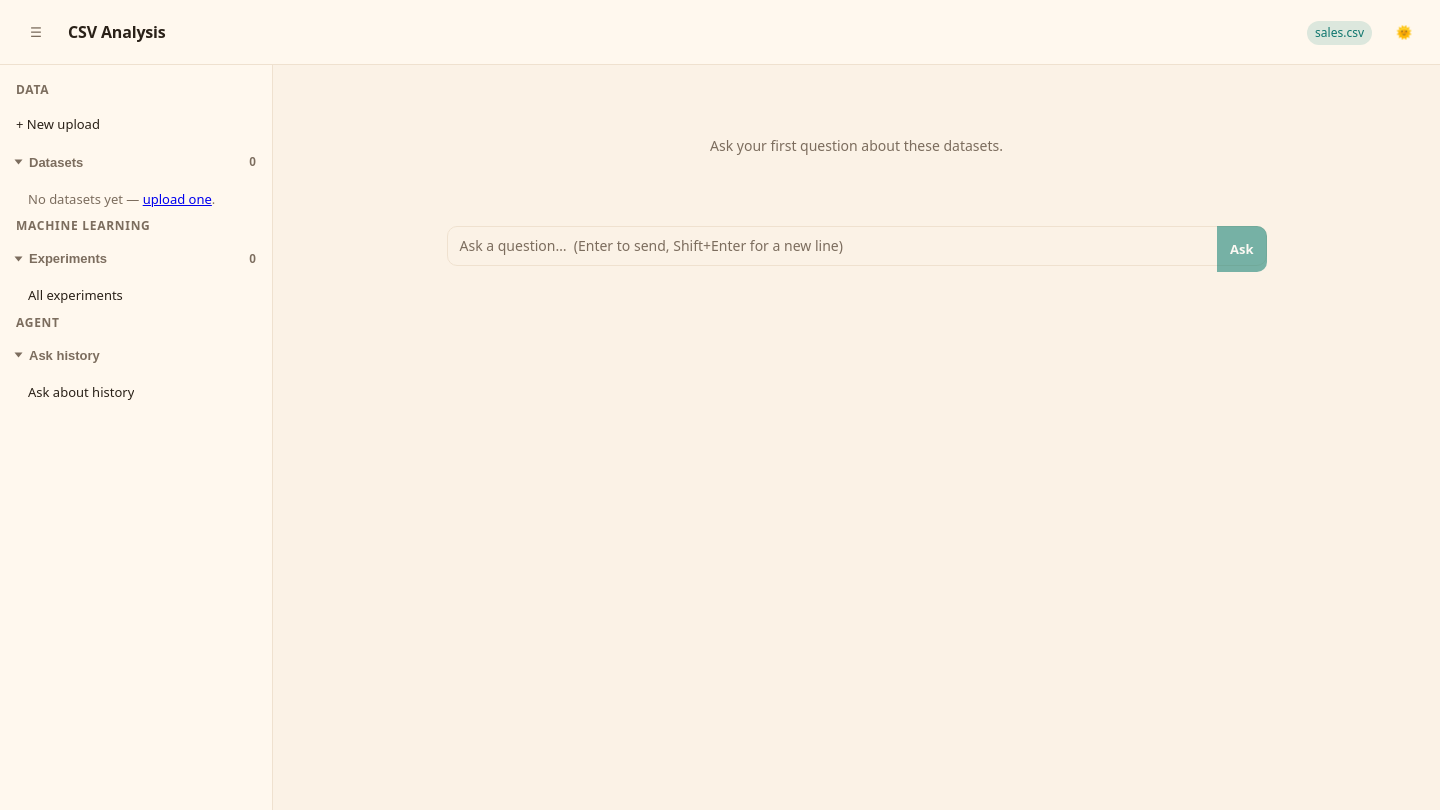
it: keeps every failed turn marked, not just the most recent (#50)
Expected: the text "sales.csv" is shown, [1307,21,1372,45]
In the text box labelled "question": (856, 246) [446,226,1266,266], type "first question"
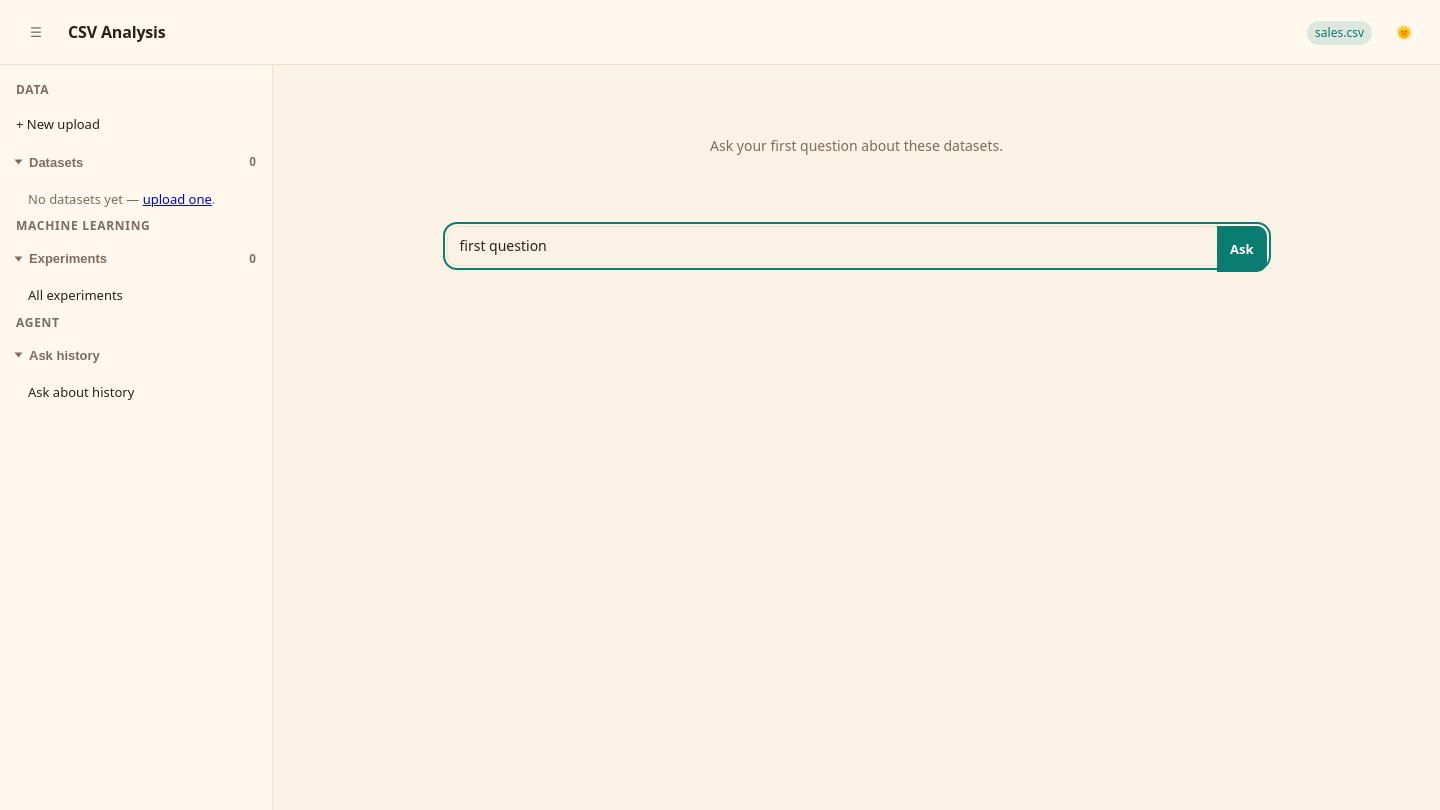
Click the button "Ask": (1242, 249) [1217,226,1266,272]
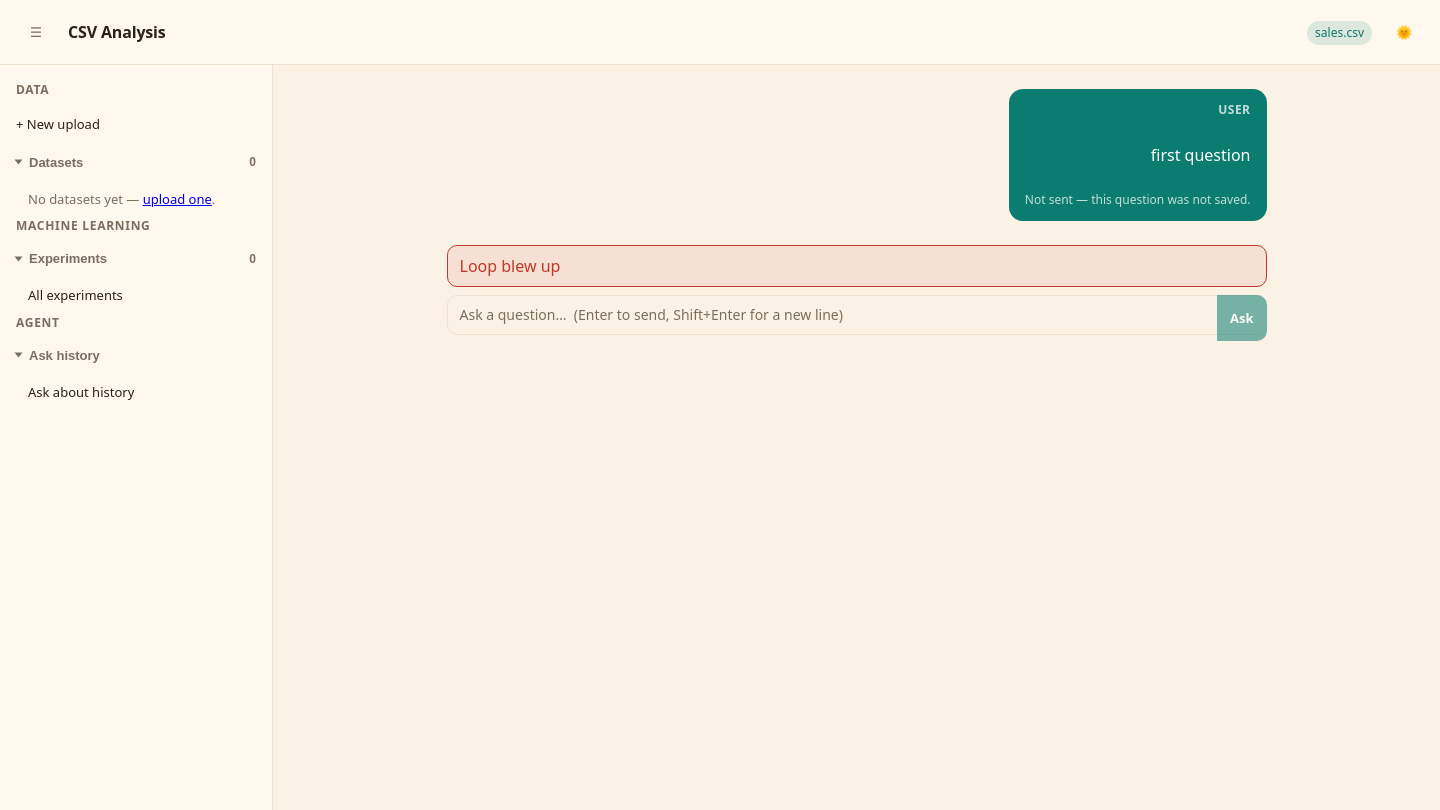
Expected: the text "first question" is shown, [1151,143,1250,167]
In the text box labelled "question": (856, 315) [446,295,1266,335], type "second question"
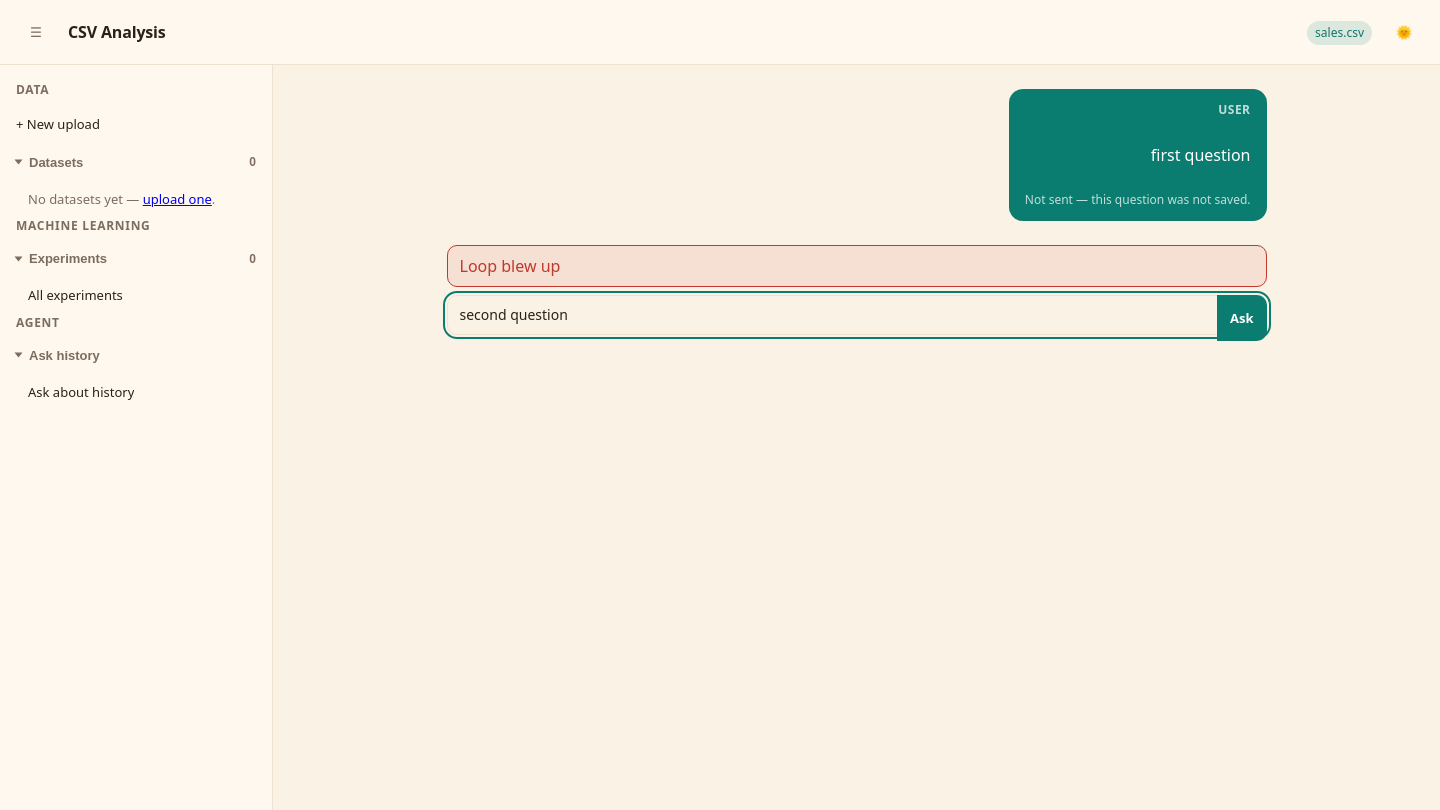
Click the button "Ask": (1242, 318) [1217,295,1266,341]
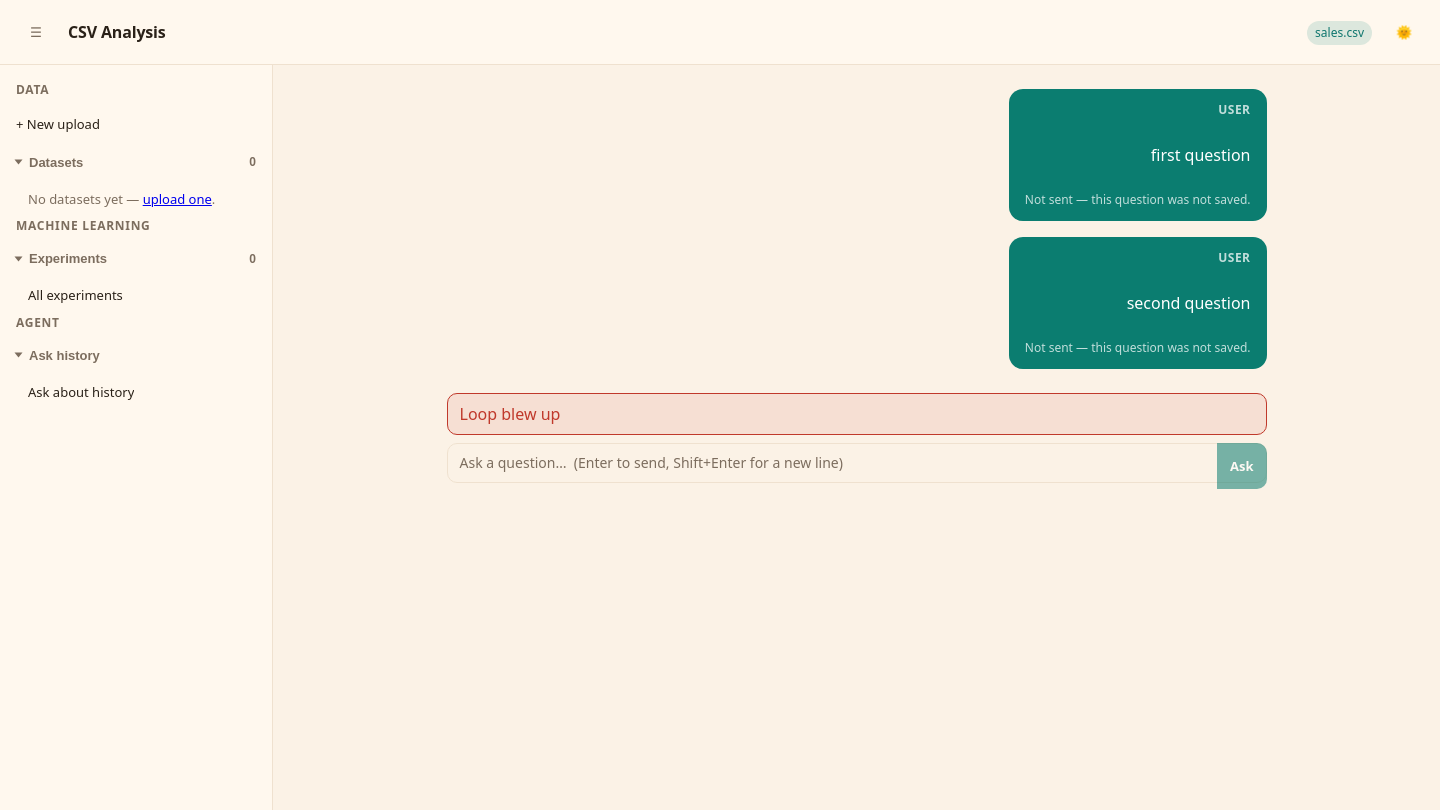
Result: the text "second question" is shown at [1127,291,1250,315]
Result: the text "Not sent — this question was not saved." is shown 2 times at [1025,191,1250,209]; [1025,339,1250,357]
